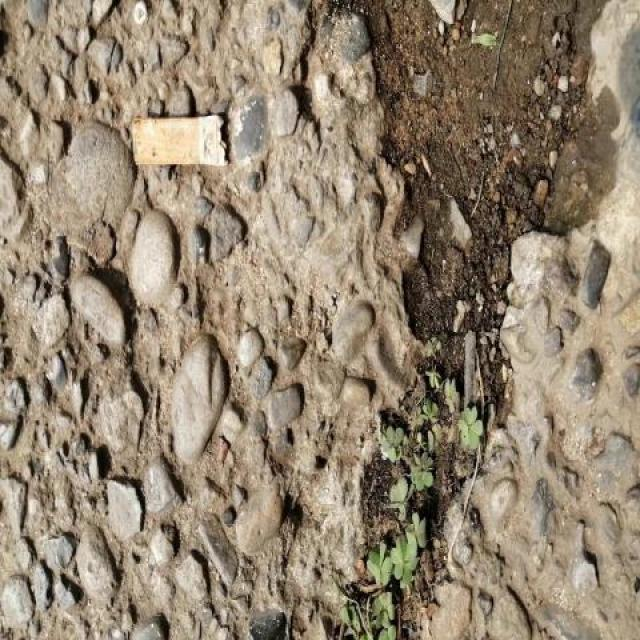non-organic waste: (125, 109, 235, 172)
